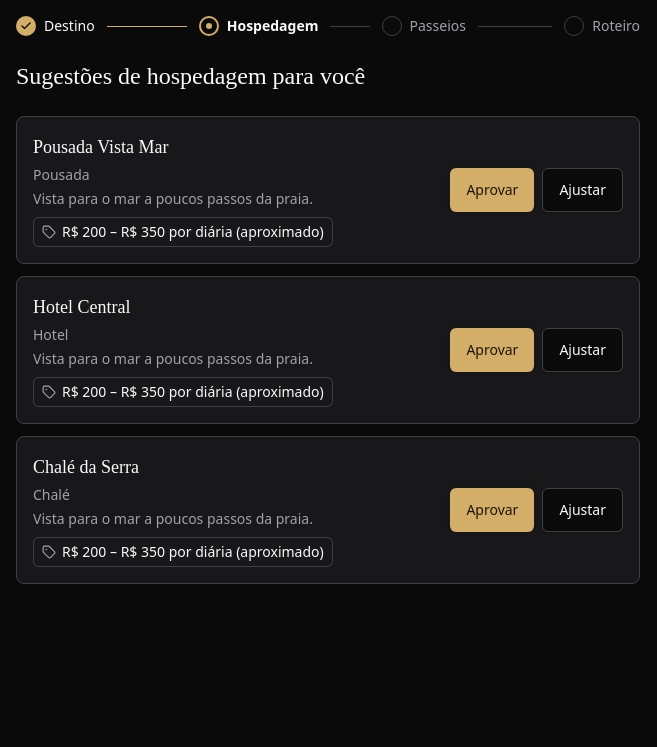
Test case: HospedagemSugestoesScreen — estado Sucesso › depois de aprovar, os botões Aprovar/Ajustar dos demais cartões ficam desabilitados
Check: the text "Pousada Vista Mar" is shown, box 33,137 -> 169,157
Step 1. Click the 1st button "Aprovar" → (492, 190), box 450,168 -> 534,212
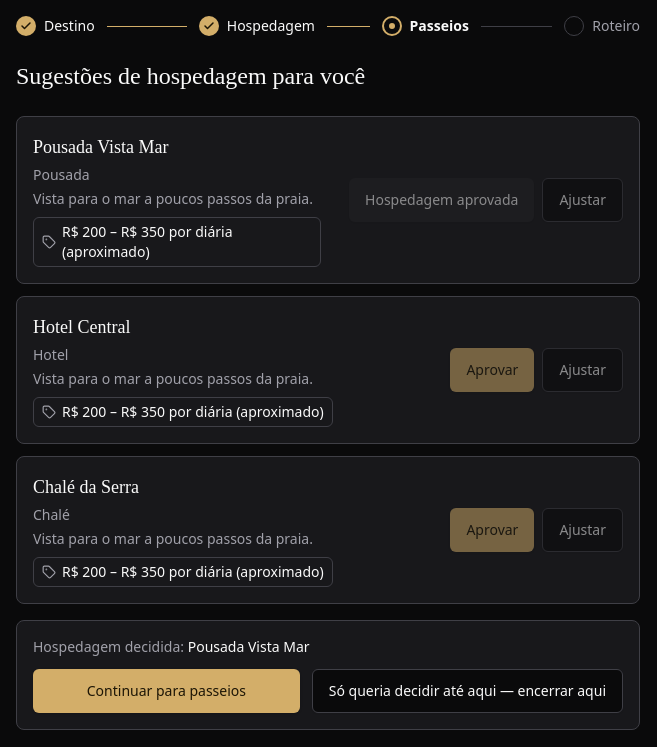
Check: the button "Continuar para passeios" is shown, box 33,669 -> 300,713
Check: the button "Hospedagem aprovada" is disabled, box 349,178 -> 534,222
Check: the 1st button "Aprovar" is disabled, box 450,348 -> 534,392
